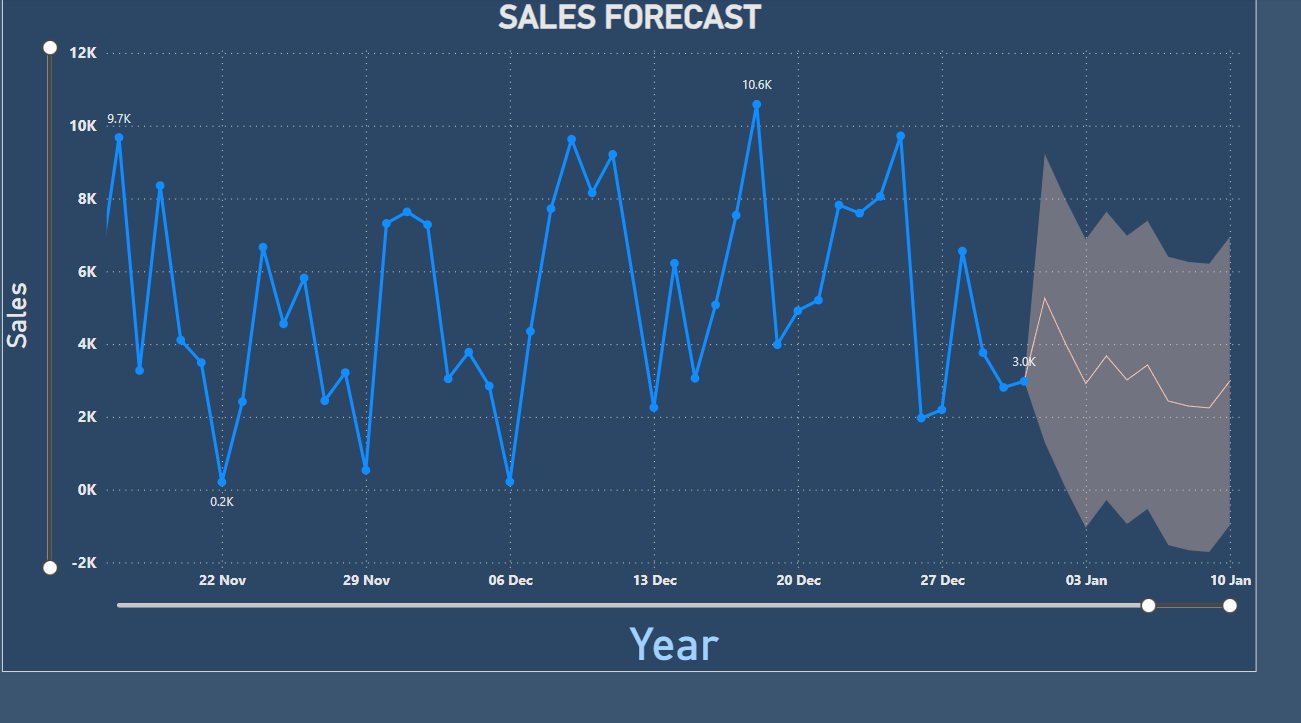

This screenshot's page, from the dashboard's own definition file:
{"tool":"powerbi","page":{"name":"Page 2","canvas":[1280,720],"ordinal":1},"visuals":[{"type":"lineChart","title":"SALES FORECAST","fields":{"Y":["Sum(SuperStore_Sales_Dataset.Sales)"],"Category":["SuperStore_Sales_Dataset.Order Date.Variation.Date Hierarchy.Year","SuperStore_Sales_Dataset.Order Date.Variation.Date Hierarchy.Quarter","SuperStore_Sales_Dataset.Order Date.Variation.Date Hierarchy.Month","SuperStore_Sales_Dataset.Order Date.Variation.Date Hierarchy.Day"]},"box":[10,0,1210,651.4],"z":0}]}

Visuals, with their boxes in screenshot pixels (x1, y1, x2, y2), scaled from the page's 1280x720 canvas onto the 1301x723 screenshot:
"SALES FORECAST" lineChart: rect(10, 0, 1240, 654)
